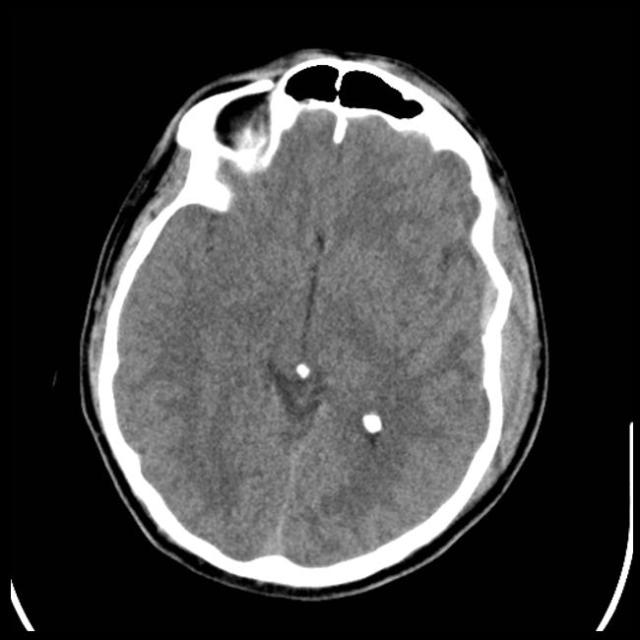lesion: (79, 48, 546, 592)
